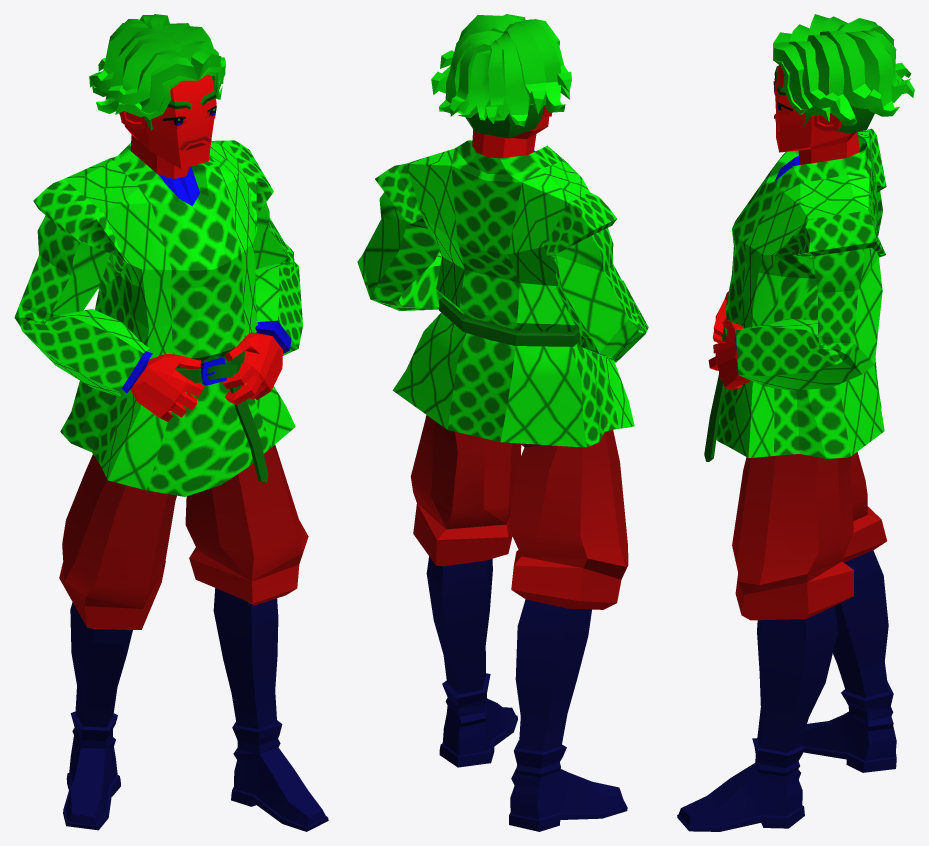
File: M_Noble_prePosed.fbx
3 views of the same model, side by side, from view 1: azimuth 30°, elevation 25°; view 2: azimuth 150°, elevation 25°; view 3: azimuth 270°, elevation 25° (orthographic).
Visible parts, largest first — view 1: M_Noble_prePosed; view 2: M_Noble_prePosed; view 3: M_Noble_prePosed.
Boxes of the visible parts, x1,y1,x2,y2 form: M_Noble_prePosed: [14, 14, 328, 831]; M_Noble_prePosed: [357, 14, 648, 831]; M_Noble_prePosed: [677, 14, 914, 831].
Size of the model in its own units: 78.41 by 205 by 58.07.
